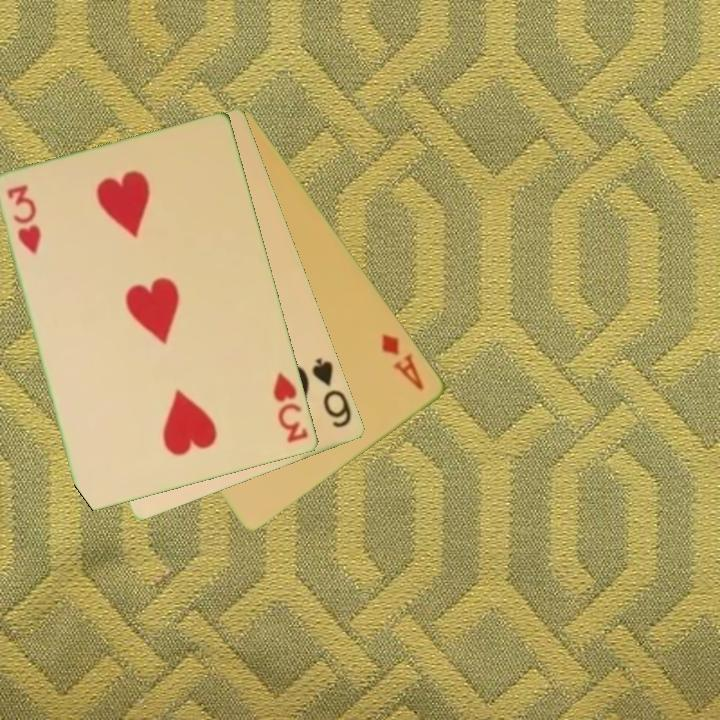3h: (270, 369, 311, 446), (4, 181, 45, 257)
6s: (309, 354, 355, 431)
Ad: (378, 329, 428, 394)
